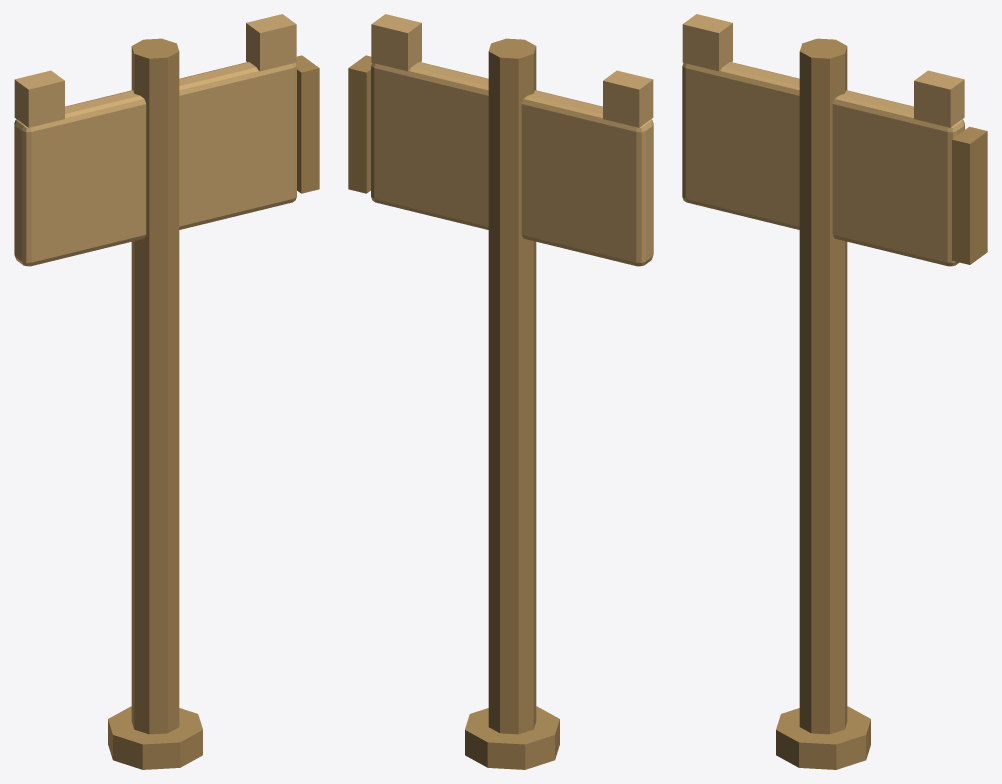
Rendered from sign.glb.
3 views of the same model, side by side, from view 1: azimuth 30°, elevation 25°; view 2: azimuth 150°, elevation 25°; view 3: azimuth 330°, elevation 25° (orthographic).
Parts seen in each view (by area): view 1: Cube, Cylinder, Cylinder.001, Cube.003, Cube.001, Cube.002; view 2: Cube, Cylinder, Cylinder.001, Cube.003, Cube.001, Cube.002; view 3: Cube, Cylinder, Cube.003, Cylinder.001, Cube.002, Cube.001.
Part boxes in pixels (left/top/right/bottom): Cube: left=14, top=62, right=296, bottom=266; Cylinder: left=131, top=38, right=179, bottom=734; Cylinder.001: left=108, top=706, right=202, bottom=769; Cube.003: left=296, top=55, right=319, bottom=193; Cube.001: left=14, top=70, right=64, bottom=127; Cube.002: left=246, top=14, right=296, bottom=71; Cube: left=371, top=62, right=653, bottom=266; Cylinder: left=488, top=38, right=536, bottom=734; Cylinder.001: left=465, top=706, right=559, bottom=769; Cube.003: left=348, top=55, right=371, bottom=193; Cube.001: left=603, top=70, right=653, bottom=127; Cube.002: left=371, top=14, right=421, bottom=71; Cube: left=682, top=62, right=964, bottom=266; Cylinder: left=799, top=38, right=847, bottom=734; Cube.003: left=952, top=126, right=987, bottom=264; Cylinder.001: left=776, top=706, right=870, bottom=769; Cube.002: left=914, top=70, right=964, bottom=127; Cube.001: left=682, top=14, right=732, bottom=71.
Size of the model in its own units: 0.96 by 2.2 by 0.28.
